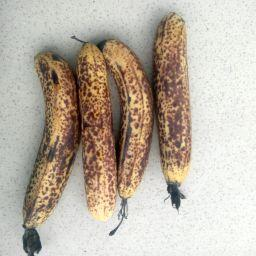banana: (21, 48, 83, 256), (94, 36, 156, 238), (69, 33, 119, 224), (152, 11, 194, 213)
